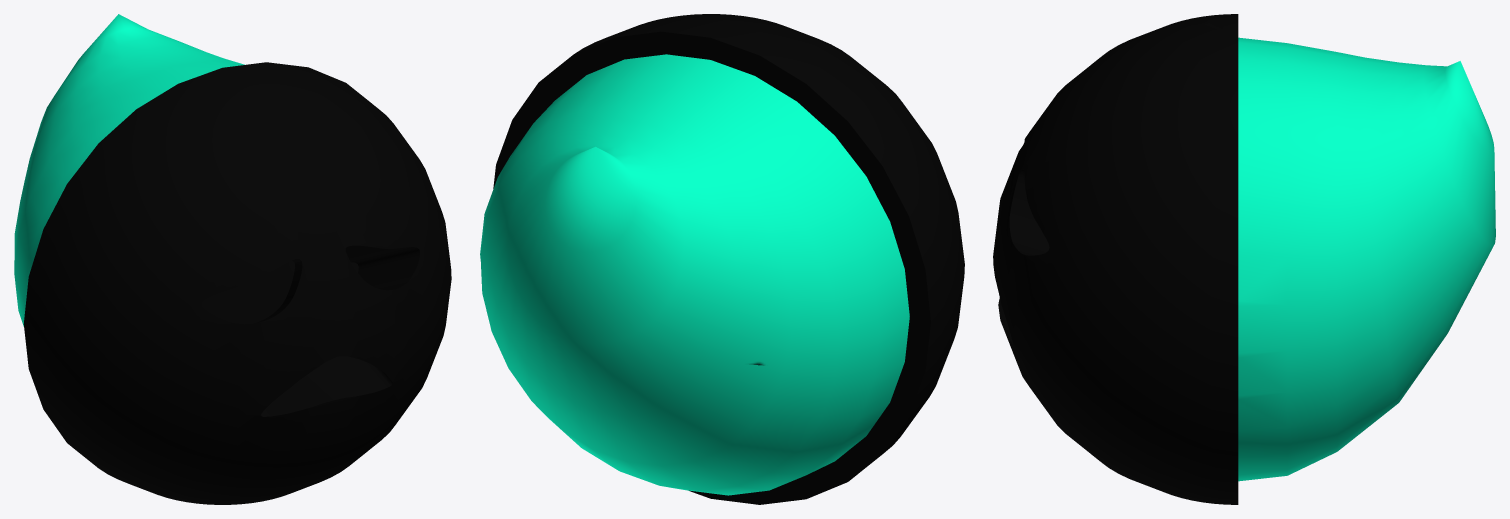
The model's file is Cursed_Blueper.FBX.
3 views of the same model, side by side, from view 1: azimuth 30°, elevation 25°; view 2: azimuth 150°, elevation 25°; view 3: azimuth 270°, elevation 25° (orthographic). The views are drawn at different scales.
Visible parts, largest first — view 1: Sphere002; view 2: Sphere002; view 3: Sphere002.
Part boxes in pixels (bbox=[...]): Sphere002: bbox=[14, 14, 451, 504]; Sphere002: bbox=[480, 14, 964, 504]; Sphere002: bbox=[993, 14, 1495, 504].
Size of the model in its own units: 60 by 60 by 61.45.
1 material, 1 textured.
